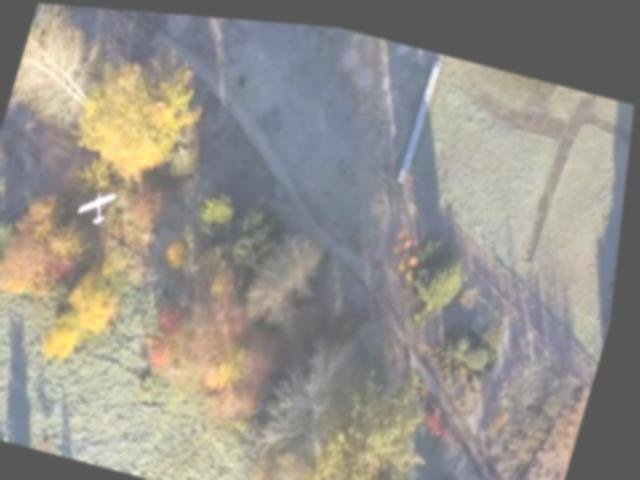uav: (68, 174, 133, 230)
